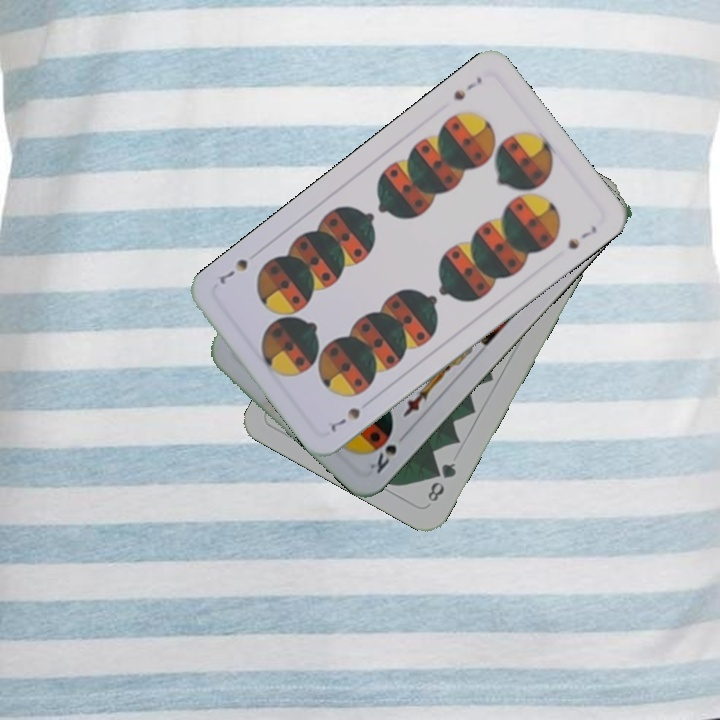G8: (423, 458, 459, 505)
S7: (326, 403, 363, 435), (449, 72, 485, 103)
SK: (365, 428, 411, 477)
